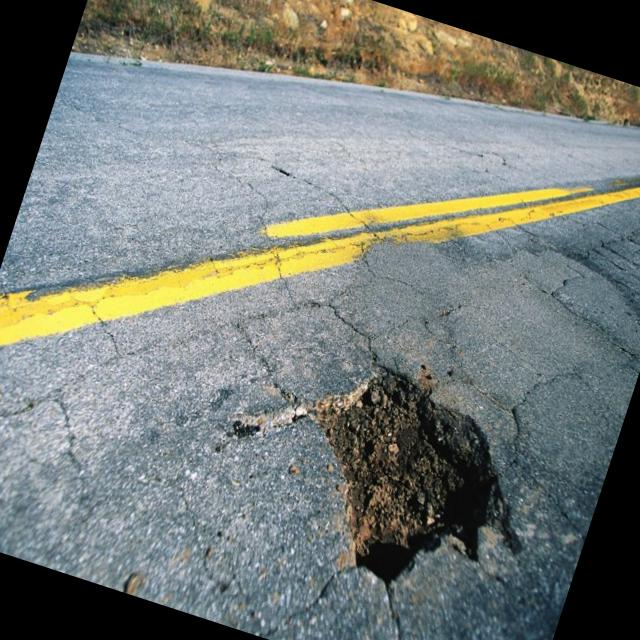Potholes: (193, 276, 575, 640)
